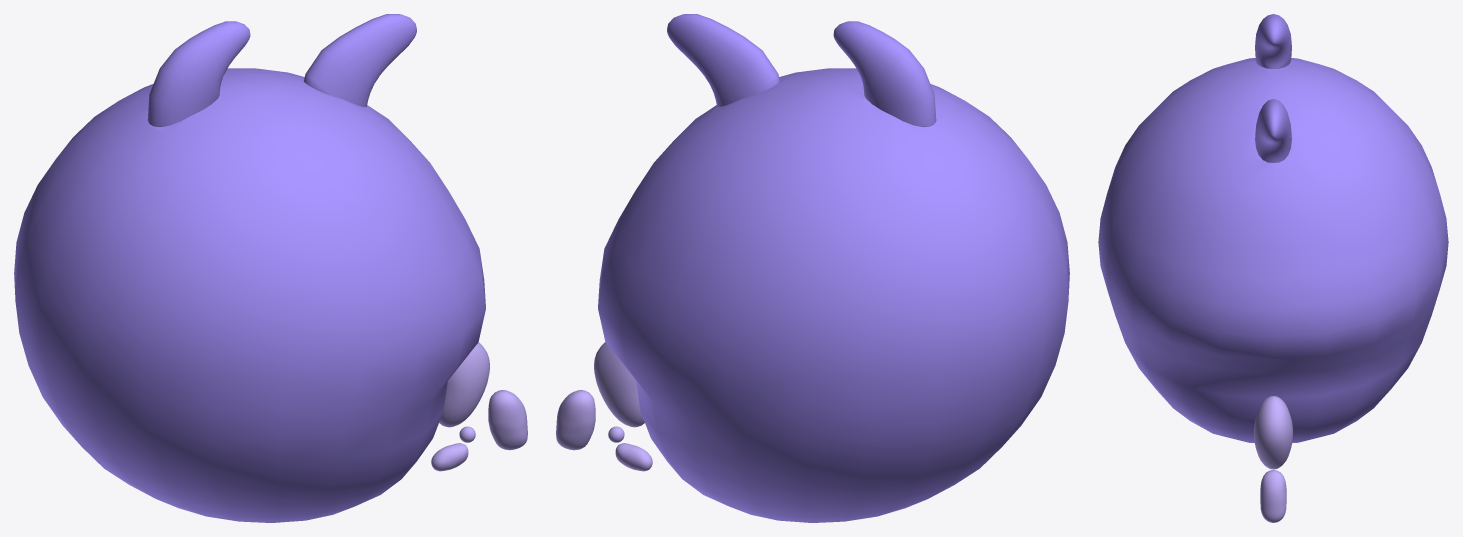
3 renders of one model, left to right at view 1: azimuth 30°, elevation 25°; view 2: azimuth 150°, elevation 25°; view 3: azimuth 270°, elevation 25°, orthographic. The views are drawn at different scales.
Visible parts, largest first — view 1: pSphere29.001, pSphere39.001, pSphere38.001, pSphere37.001; view 2: pSphere29.001, pSphere39.001, pSphere38.001, pSphere37.001; view 3: pSphere29.001, pSphere39.001, pSphere38.001.
Boxes of the visible parts, x1,y1,x2,y2 form: pSphere29.001: (14,14,485,522); pSphere39.001: (439,342,489,427); pSphere38.001: (488,390,527,450); pSphere37.001: (431,443,468,471); pSphere29.001: (598,14,1069,522); pSphere39.001: (594,342,644,427); pSphere38.001: (556,390,595,450); pSphere37.001: (615,443,652,471); pSphere29.001: (1098,14,1448,443); pSphere39.001: (1254,396,1292,469); pSphere38.001: (1260,470,1286,522).
Size of the model in its own units: 3.82 by 3.76 by 3.02.
